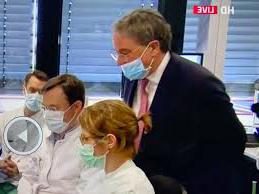mask_weared_incorrect: (111, 43, 154, 83)
with_mask: (72, 132, 113, 171), (38, 100, 73, 133), (22, 86, 44, 111)
